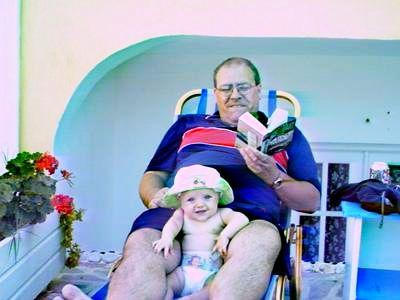person: (57, 58, 323, 300)
